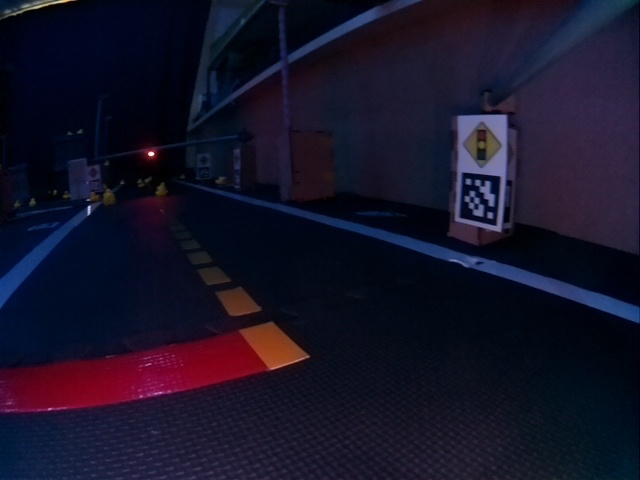Duckie: (103, 190, 116, 203), (156, 185, 165, 194), (217, 176, 226, 183)
QR code: (457, 176, 498, 225)
Signal sign: (461, 121, 502, 168)
Traffic light: (146, 148, 155, 158)
